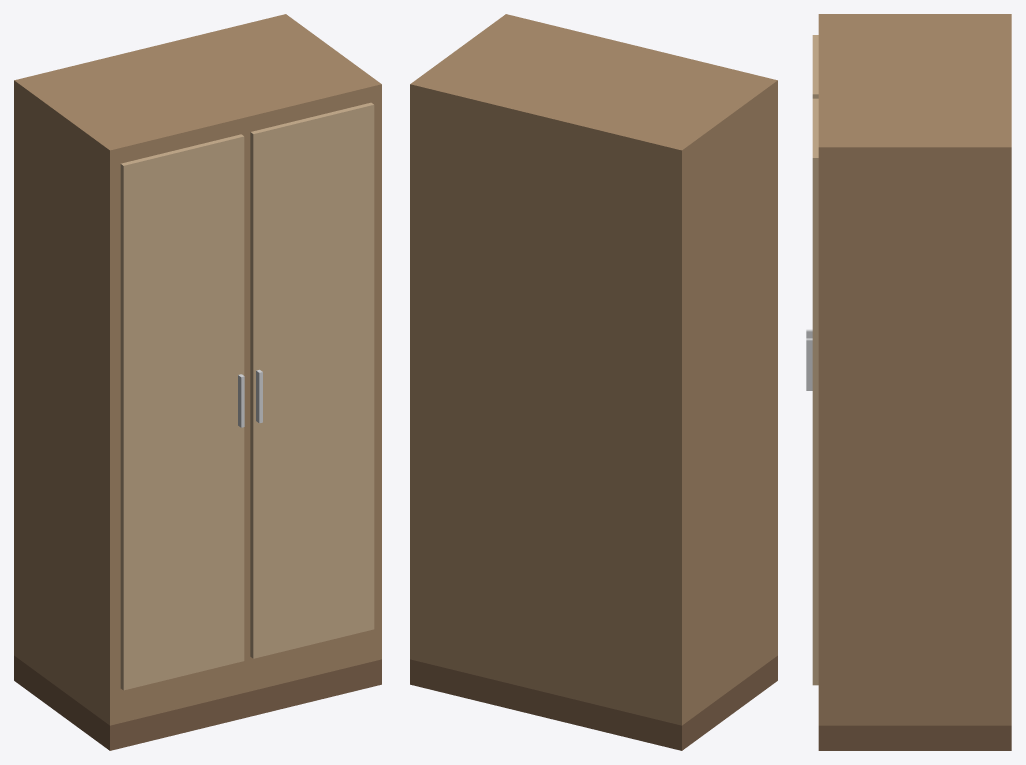
The model's file is placard.glb.
The picture shows the model from 3 angles, left to right: view 1: azimuth 30°, elevation 25°; view 2: azimuth 150°, elevation 25°; view 3: azimuth 270°, elevation 25°; orthographic projection.
Bounding box in the file's own units: 0.9 × 1.9 × 0.585.
